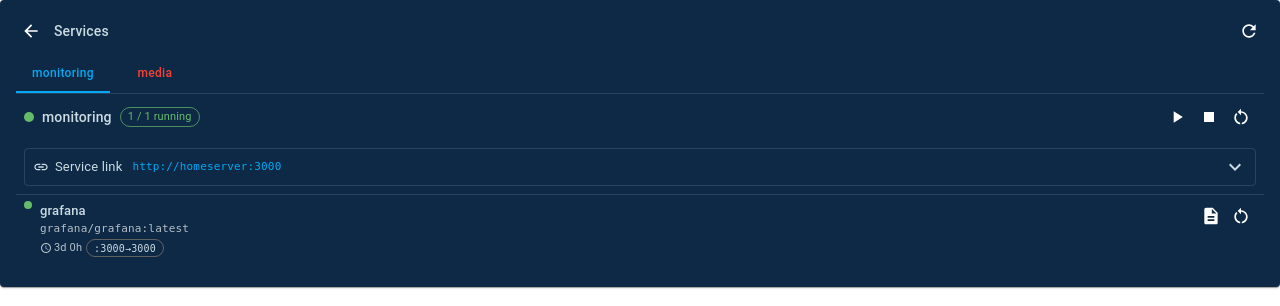
Test: Services page › switches to another stack when its tab is selected
Expected: the text "grafana" is shown, [40,203,86,218]
Step 1. Click the tab "media" → (155, 74), box [110,54,200,93]
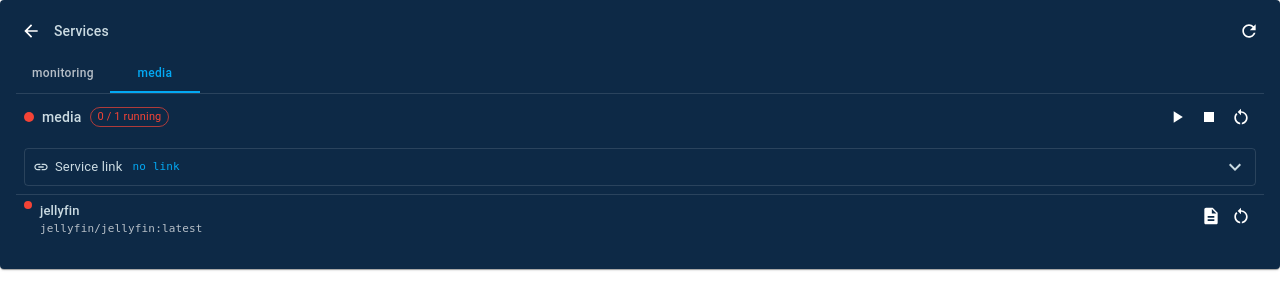
Expected: the text "jellyfin" is shown, [40,203,80,218]
